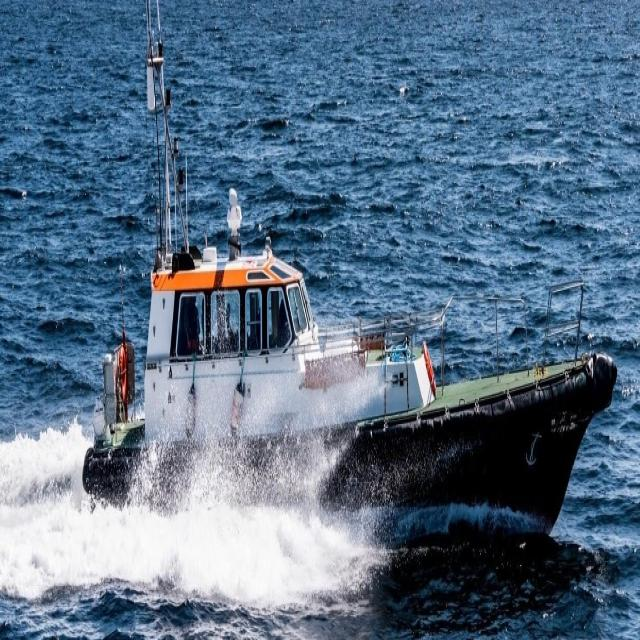houseboat: (80, 133, 602, 591)
